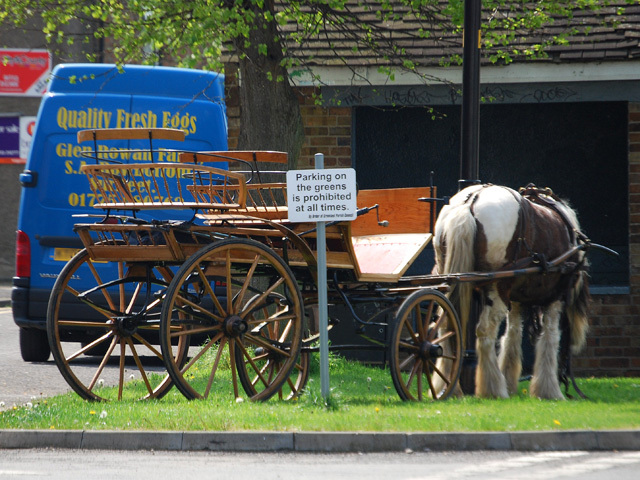horse: (431, 182, 592, 402)
